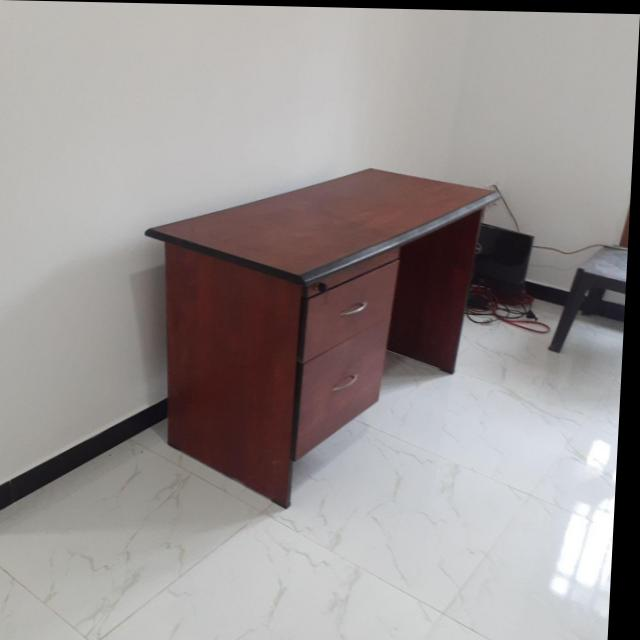Table: (114, 145, 514, 527)
